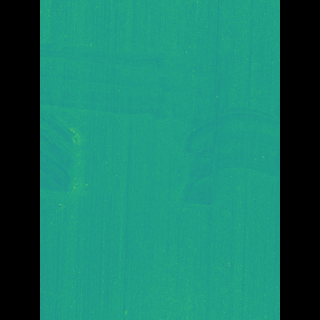Loch: (68, 48, 183, 208), (174, 92, 249, 208)
